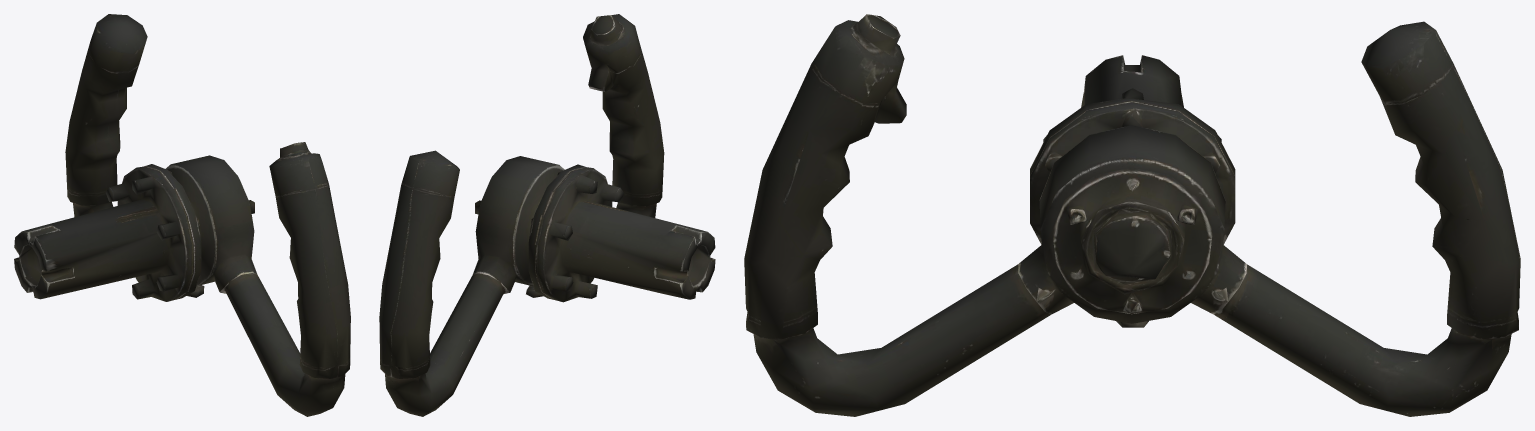
Rendered from yoke.glb.
The picture shows the model from 3 angles, left to right: view 1: azimuth 30°, elevation 25°; view 2: azimuth 150°, elevation 25°; view 3: azimuth 270°, elevation 25°; orthographic projection. The views are drawn at different scales.
Parts seen in each view (by area): view 1: tripo_node_64b459d9-194d-4183-8b4d-07e50; view 2: tripo_node_64b459d9-194d-4183-8b4d-07e50; view 3: tripo_node_64b459d9-194d-4183-8b4d-07e50.
Boxes of the visible parts, x1,y1,x2,y2 form: tripo_node_64b459d9-194d-4183-8b4d-07e50: (14, 14, 350, 416); tripo_node_64b459d9-194d-4183-8b4d-07e50: (379, 14, 715, 416); tripo_node_64b459d9-194d-4183-8b4d-07e50: (744, 14, 1520, 416).
Size of the model in its own units: 0.4655 by 0.5635 by 0.9997.
Materials: 1 (1 with a texture image).
